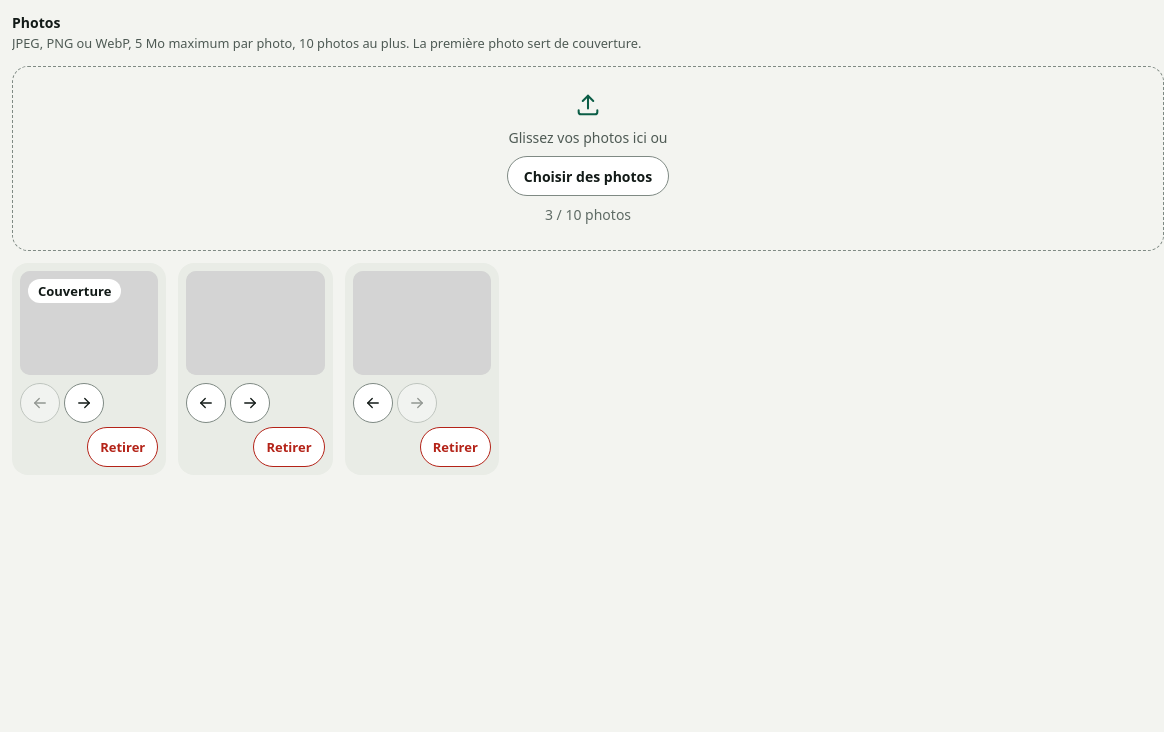
Test: PhotoManager › existing listing: restores the previous order when the API refuses it
Step 1. Click the button named "Déplacer vers la gauche (Photo 3)" → (373, 403), box top-left (353, 383), bottom-right (393, 423)
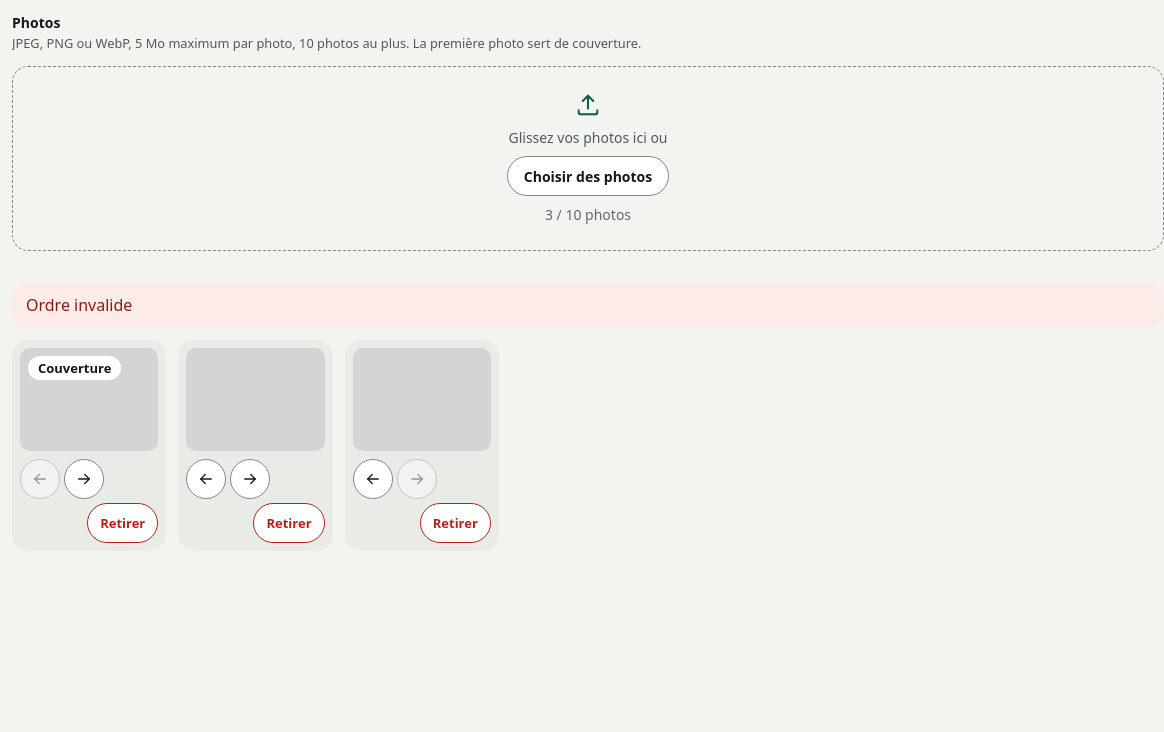
Now the text "Ordre invalide" is shown, box top-left (12, 283), bottom-right (1163, 328)
